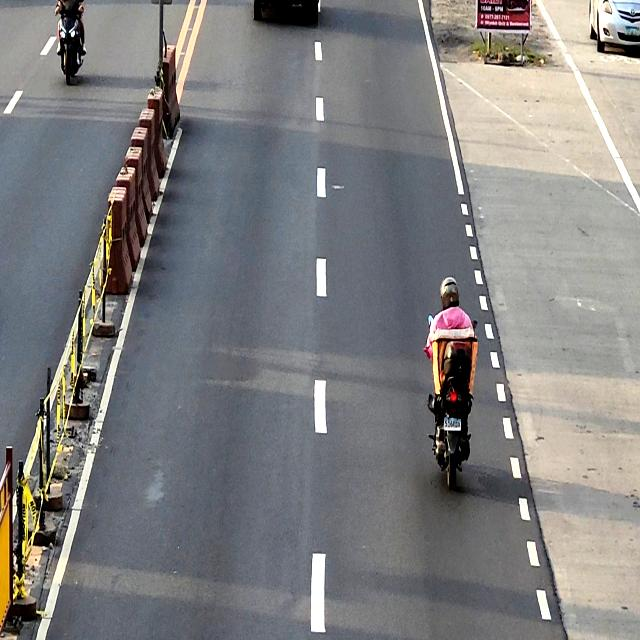License-Plate: (442, 418, 462, 432)
Motorcycle: (428, 314, 478, 492), (58, 1, 82, 86)
